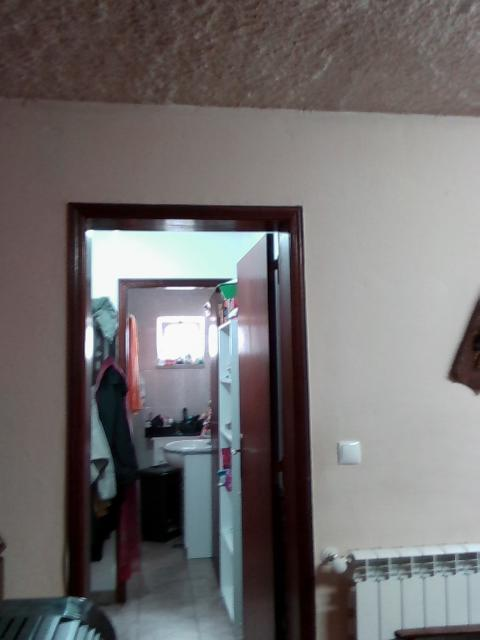open_door: (61, 199, 317, 639)
